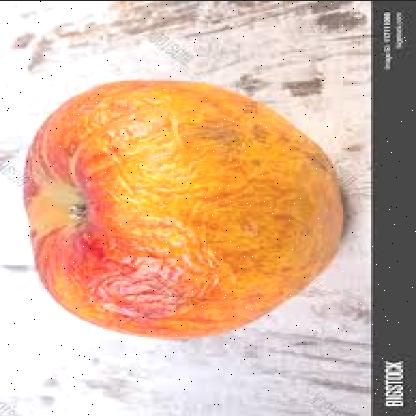damaged_apple: (19, 80, 339, 339)
